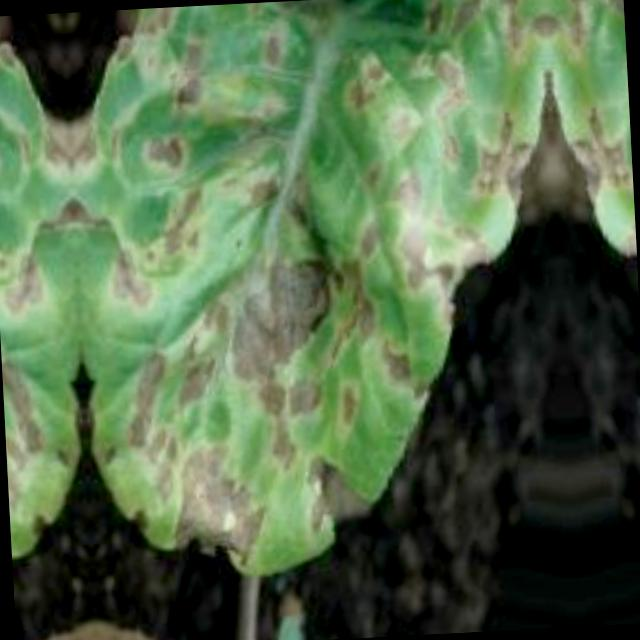Septoria_Blight: (76, 53, 240, 312), (106, 354, 268, 564), (368, 162, 457, 404), (220, 262, 358, 407), (0, 61, 67, 315), (2, 365, 66, 569), (459, 125, 532, 210), (573, 120, 634, 204)
